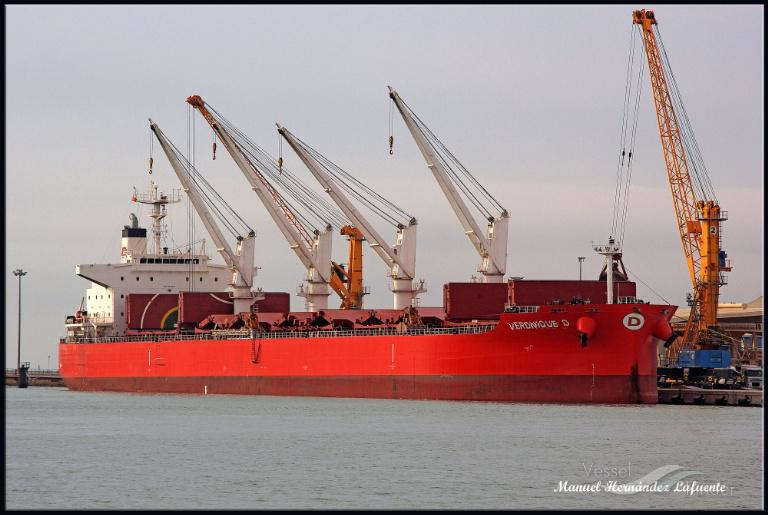OCR: (500, 315, 569, 334)
